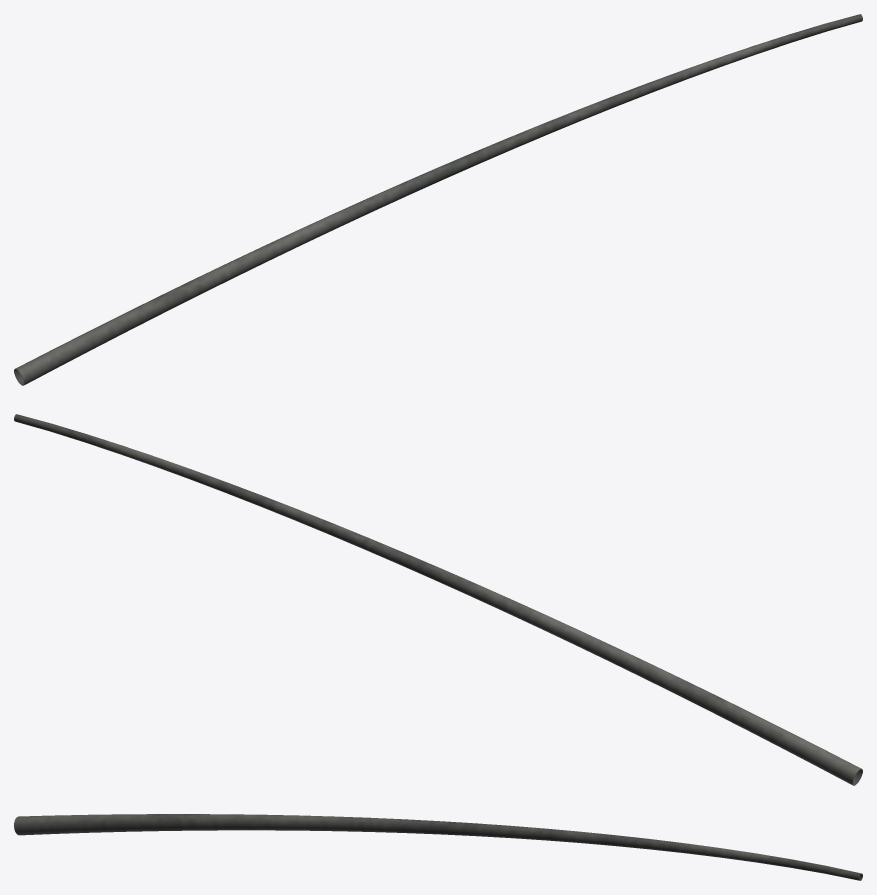
File: armRise5-v1.glb
3 views of the same model, one above another, from view 1: azimuth 30°, elevation 25°; view 2: azimuth 150°, elevation 25°; view 3: azimuth 330°, elevation 25° (orthographic).
Parts seen in each view (by area): view 1: armRise5-v1; view 2: armRise5-v1; view 3: armRise5-v1.
Boxes of the visible parts, box(x1,y1,x2,y2) form: armRise5-v1: box(14, 14, 862, 385); armRise5-v1: box(14, 414, 862, 785); armRise5-v1: box(14, 814, 862, 880).
Bounding box in the file's own units: 12.22 × 2.3 × 0.2381.
Materials: 1 (1 with a texture image).
